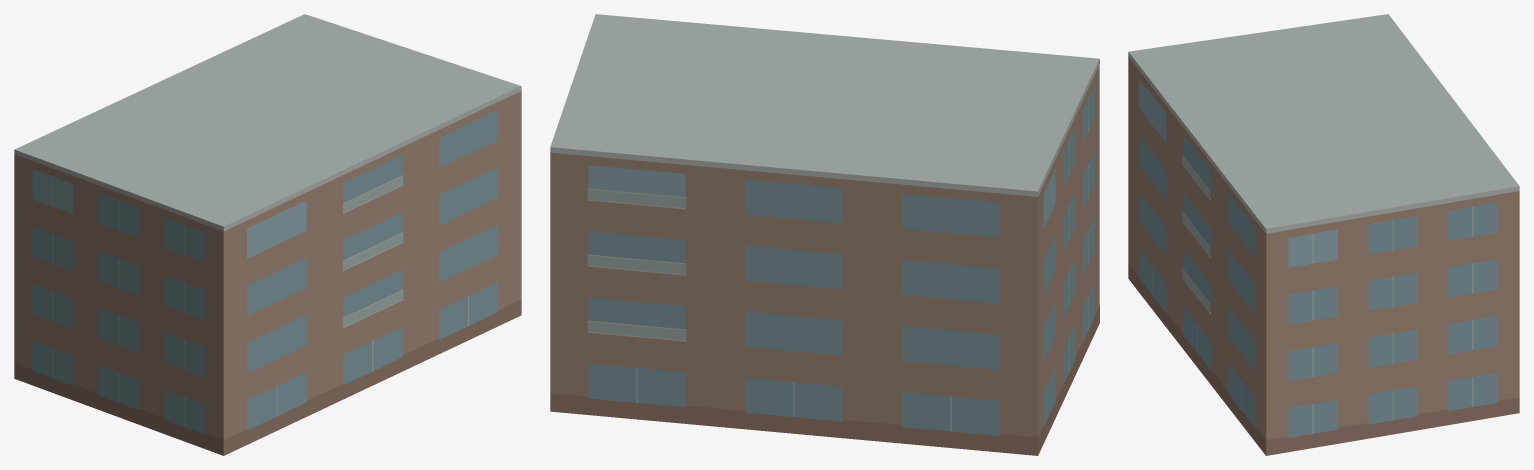
File: survey-upis-33016115.glb
3 views of the same model, side by side, from view 1: azimuth 30°, elevation 25°; view 2: azimuth 150°, elevation 25°; view 3: azimuth 270°, elevation 25° (orthographic). The views are drawn at different scales.
Parts seen in each view (by area): view 1: survey-upis-33016115.tmp; view 2: survey-upis-33016115.tmp; view 3: survey-upis-33016115.tmp.
Part boxes in pixels (x1,y1,x2,y2): survey-upis-33016115.tmp: (14,14,521,455); survey-upis-33016115.tmp: (550,14,1099,455); survey-upis-33016115.tmp: (1128,14,1519,455).
Size of the model in its own units: 23.8 by 11.7 by 18.3.
